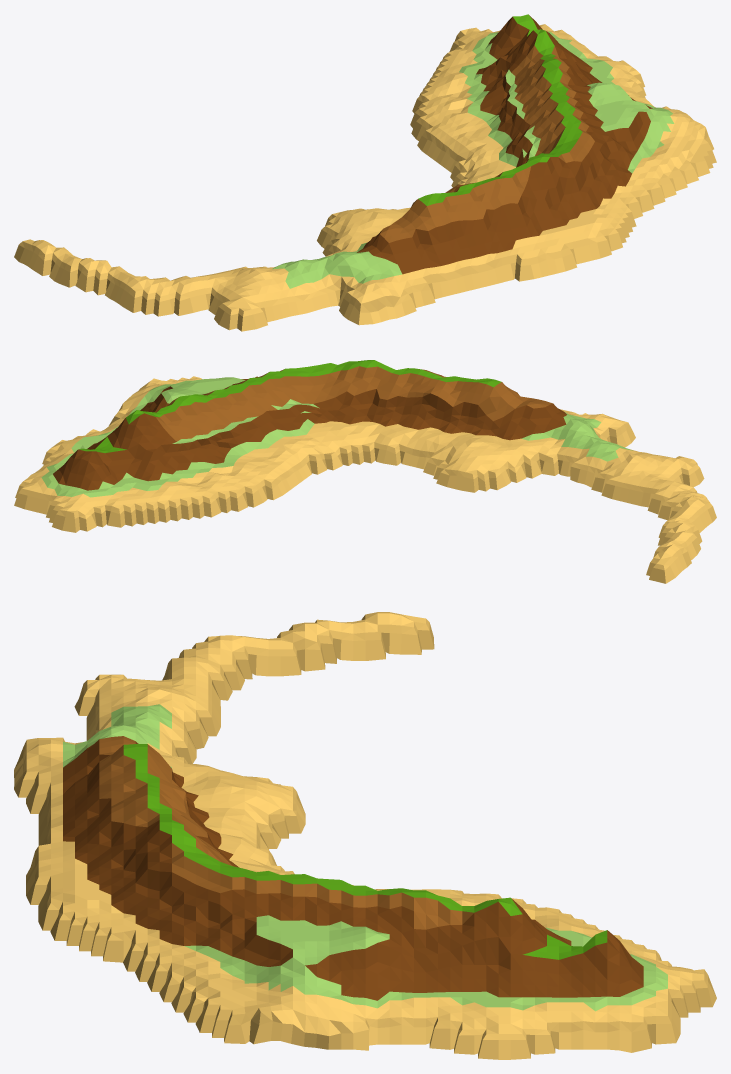
Rendered from Island_C01_LargeLeft_Model.fbx.
The picture shows the model from 3 angles, top to bottom: view 1: azimuth 30°, elevation 25°; view 2: azimuth 150°, elevation 25°; view 3: azimuth 270°, elevation 25°; orthographic projection. The views are drawn at different scales.
Visible parts, largest first — view 1: polySurface1; view 2: polySurface1; view 3: polySurface1.
Part boxes in pixels (left/top/right/bottom): polySurface1: left=14, top=14, right=716, bottom=331; polySurface1: left=14, top=360, right=716, bottom=583; polySurface1: left=14, top=612, right=716, bottom=1059.
Size of the model in its own units: 407 by 45.23 by 285.
